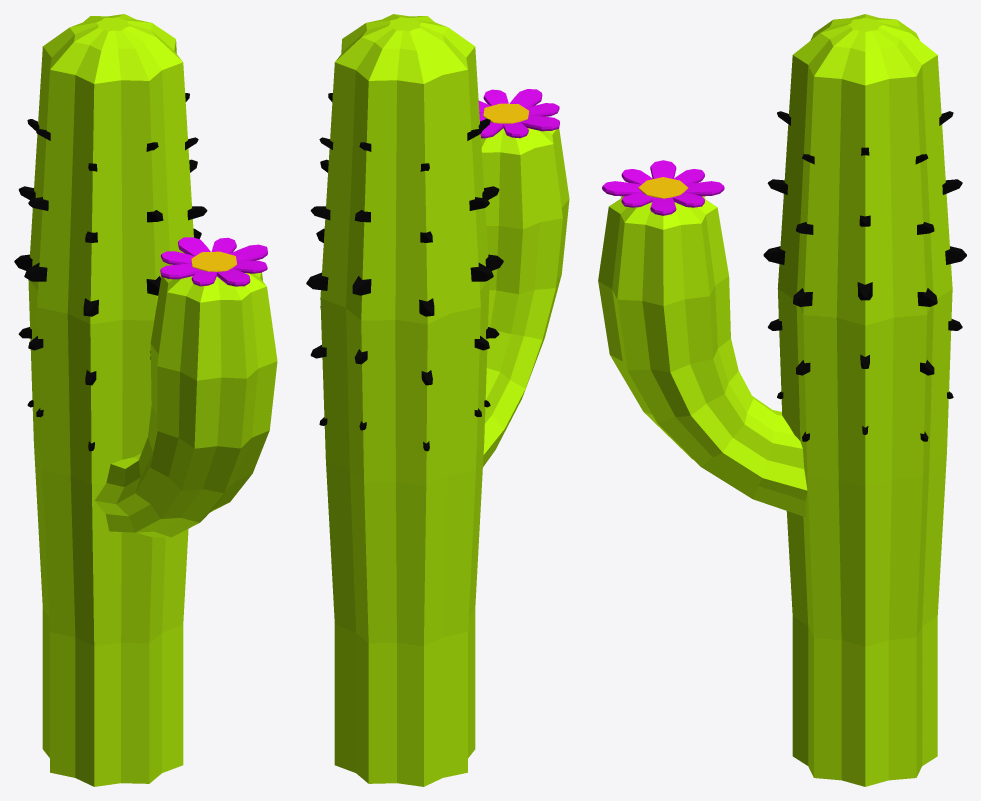
The model's file is Cardon04_01Brazos_Flor_Magenta.fbx.
3 views of the same model, side by side, from view 1: azimuth 30°, elevation 25°; view 2: azimuth 150°, elevation 25°; view 3: azimuth 270°, elevation 25° (orthographic).
Visible parts, largest first — view 1: Cactus, Flor_Magenta, Espinas; view 2: Cactus, Espinas, Flor_Magenta; view 3: Cactus, Espinas, Flor_Magenta.
Part boxes in pixels (box(x1,y1,x2,y2)): Cactus: box(28, 14, 277, 786); Flor_Magenta: box(160, 237, 267, 286); Espinas: box(14, 93, 207, 451); Cactus: box(320, 14, 569, 786); Espinas: box(306, 93, 503, 451); Flor_Magenta: box(478, 89, 559, 138); Cactus: box(598, 14, 952, 786); Espinas: box(763, 111, 966, 441); Flor_Magenta: box(602, 160, 724, 215).
Size of the model in its own units: 53.18 by 211 by 96.46.
